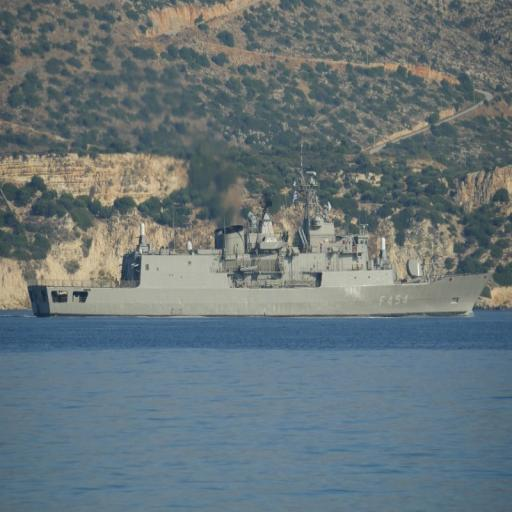Fragata: (27, 149, 499, 323)
